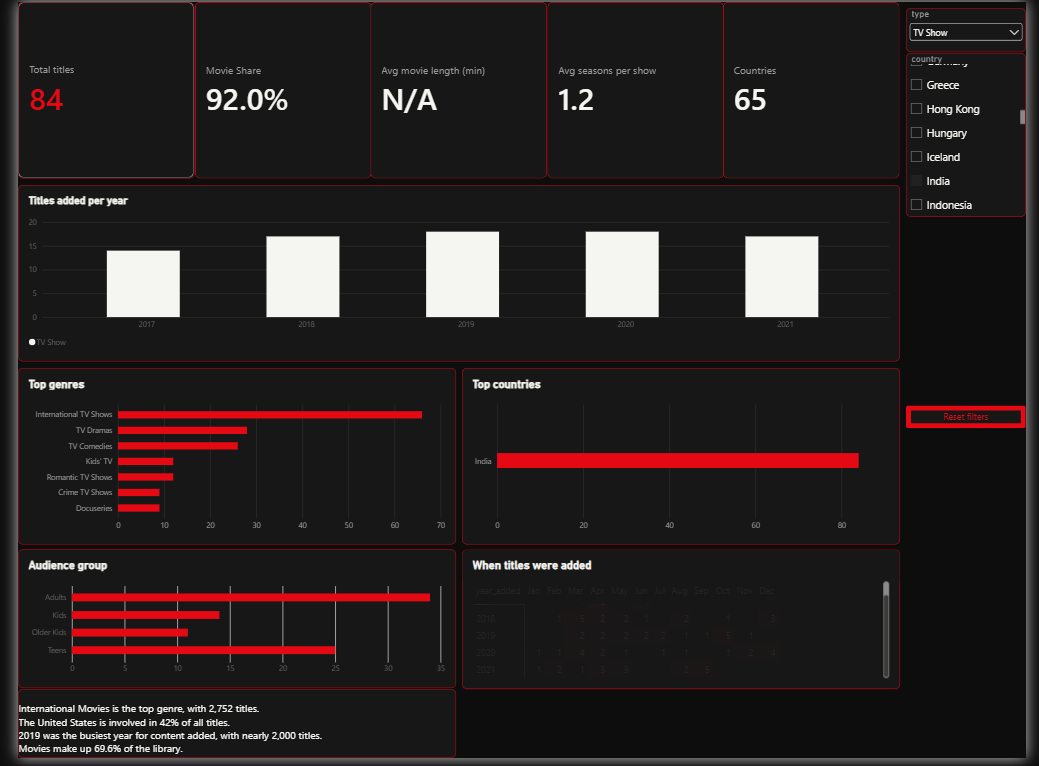

Layout of this report page (visuals, bound fields, positions):
{"tool":"powerbi","page":{"name":"Page 1","canvas":[1600,1200],"ordinal":0},"visuals":[{"type":"cardVisual","fields":{"Data":["netflix_cleaned.Total Titles Label"]},"box":[0,0,280,280],"z":0},{"type":"cardVisual","fields":{"Data":["netflix_cleaned.Movie Share"]},"box":[280,0,280,280],"z":1000},{"type":"cardVisual","fields":{"Data":["netflix_cleaned.Avg Movie Length"]},"box":[560,0,280,280],"z":2000},{"type":"cardVisual","fields":{"Data":["netflix_cleaned.Avg Seasons"]},"box":[840,0,280,280],"z":3000},{"type":"cardVisual","fields":{"Data":["netflix_cleaned.Countries"]},"box":[1120,0,280,280],"z":4000},{"type":"columnChart","title":" Titles added per year","fields":{"Category":["netflix_cleaned.year_added"],"Y":["netflix_cleaned.Total Titles"],"Series":["netflix_cleaned.type"]},"box":[0,290,1400,280],"z":5000},{"type":"clusteredBarChart","title":"Top genres","fields":{"Category":["netflix_genres.genre"],"Y":["CountNonNull(netflix_genres.show_id)"]},"box":[0,580,695,280],"z":6000},{"type":"clusteredBarChart","title":"Top countries","fields":{"Category":["netflix_countries.country"],"Y":["netflix_countries.Titles by Country"]},"box":[705,580,695,280],"z":7000},{"type":"slicer","fields":{"Values":["netflix_cleaned.type"]},"box":[1410,10,190,70],"z":8000},{"type":"slicer","fields":{"Values":["netflix_countries.country"]},"box":[1410,80,190,260],"z":9000},{"type":"actionButton","box":[1410,640,190,36],"z":9001},{"type":"clusteredBarChart","title":"Audience group","fields":{"Category":["netflix_cleaned.audience_group"],"Y":["netflix_cleaned.Total Titles"]},"box":[0,870,695,220],"z":9002},{"type":"pivotTable","title":"When titles were added","fields":{"Rows":["netflix_cleaned.year_added"],"Columns":["netflix_cleaned.month_name"],"Values":["netflix_cleaned.Total Titles"]},"box":[705,870,695,220],"z":9003},{"type":"textbox","box":[0,1090,1400,110],"z":9004}]}

Visuals, with their boxes on the page's 1600x1200 design canvas (x1, y1, x2, y2). These are canvas units, not pixel positions in the 1039x766 screenshot, which may show the page scaled, cropped or inside an application window:
cardVisual - netflix_cleaned.Total Titles Label: detection(0, 0, 280, 280)
cardVisual - netflix_cleaned.Movie Share: detection(280, 0, 560, 280)
cardVisual - netflix_cleaned.Avg Movie Length: detection(560, 0, 840, 280)
cardVisual - netflix_cleaned.Avg Seasons: detection(840, 0, 1120, 280)
cardVisual - netflix_cleaned.Countries: detection(1120, 0, 1400, 280)
" Titles added per year" columnChart: detection(0, 290, 1400, 570)
"Top genres" clusteredBarChart: detection(0, 580, 695, 860)
"Top countries" clusteredBarChart: detection(705, 580, 1400, 860)
slicer - netflix_cleaned.type: detection(1410, 10, 1600, 80)
slicer - netflix_countries.country: detection(1410, 80, 1600, 340)
actionButton: detection(1410, 640, 1600, 676)
"Audience group" clusteredBarChart: detection(0, 870, 695, 1090)
"When titles were added" pivotTable: detection(705, 870, 1400, 1090)
textbox: detection(0, 1090, 1400, 1200)
